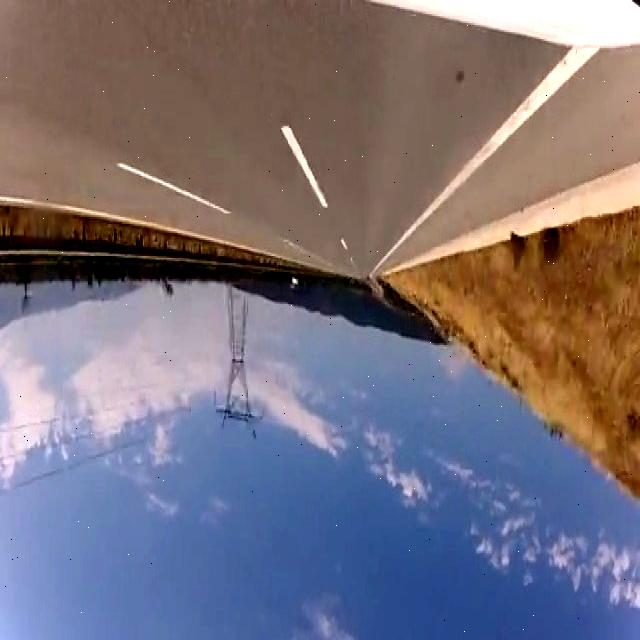lane: (369, 49, 596, 278), (119, 164, 226, 212), (281, 126, 327, 207)
road: (3, 2, 566, 276), (383, 50, 639, 272)
